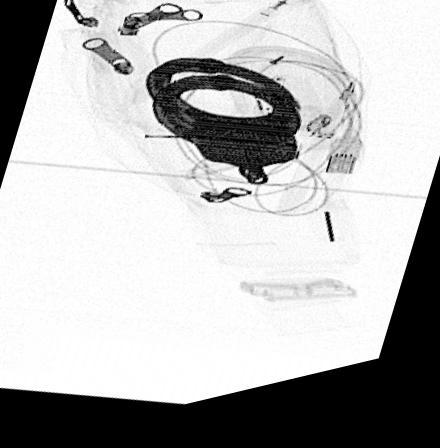HandCuffs: (142, 65, 306, 199)
